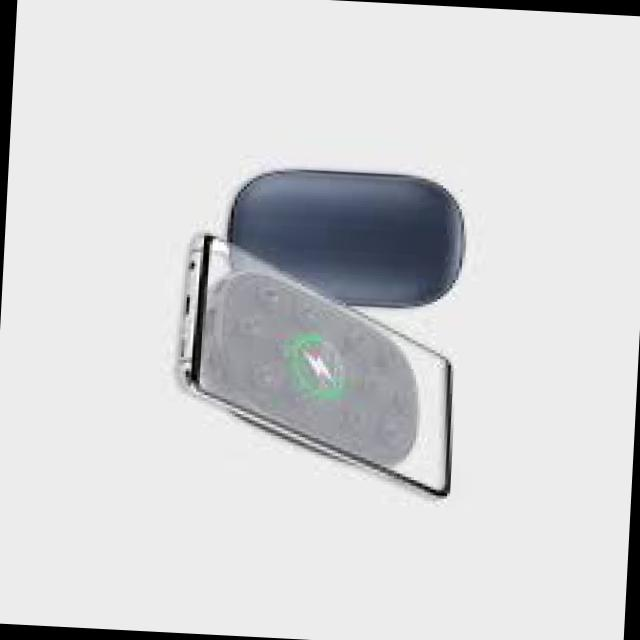power_bank: (216, 164, 469, 320)
